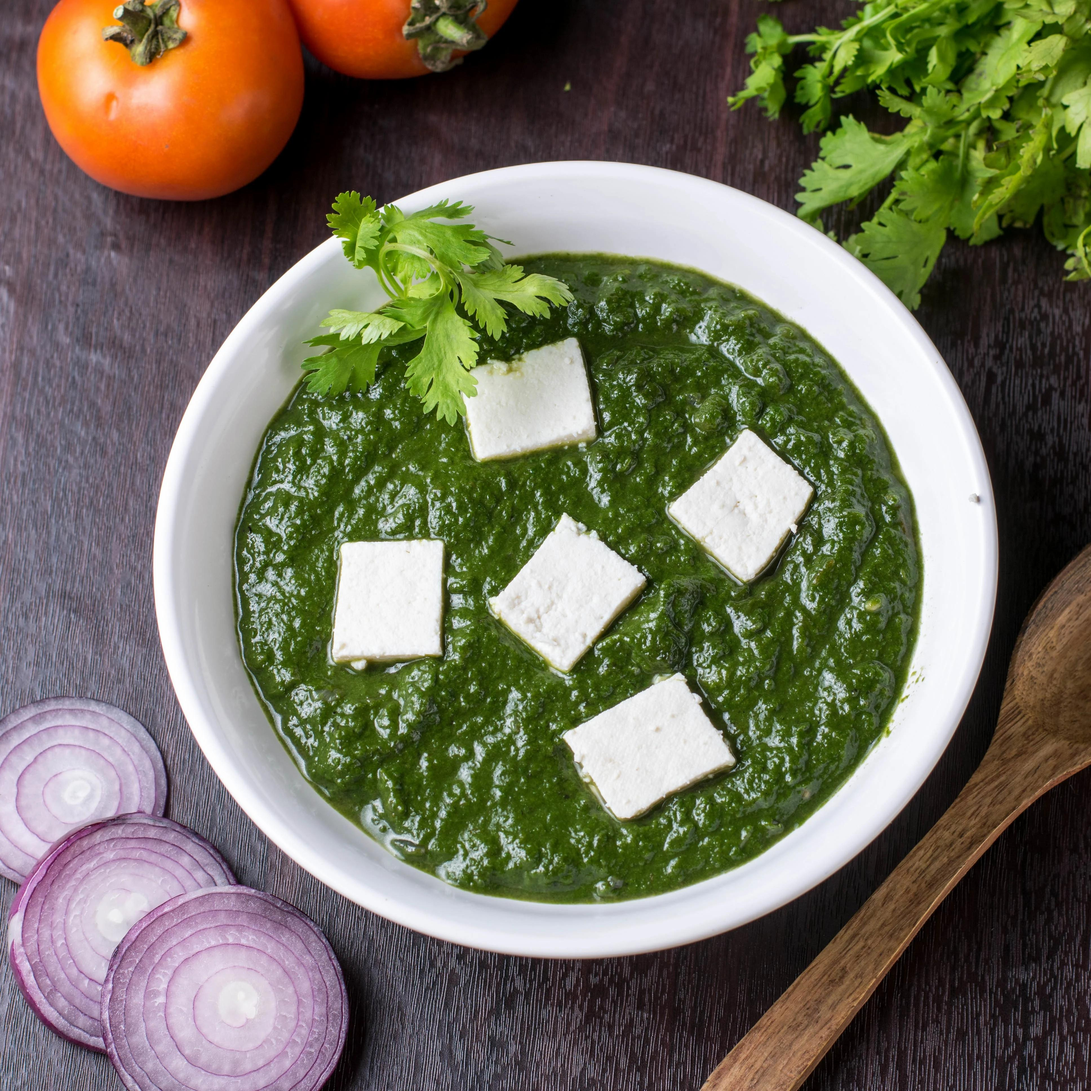PalakPaneer: (243, 253, 918, 904)
